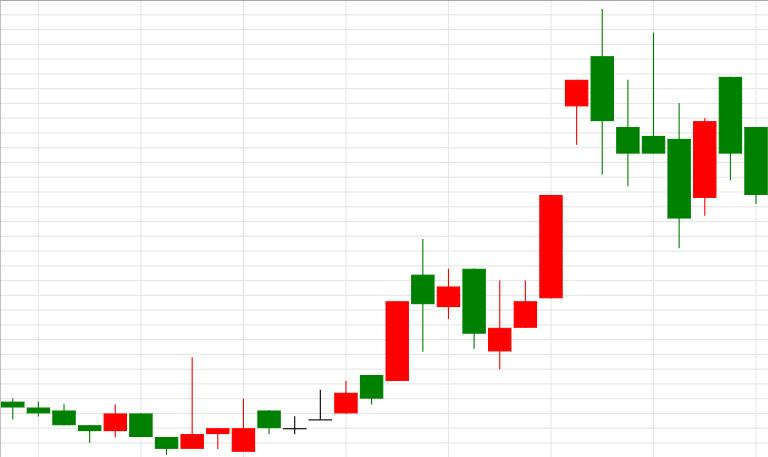bearish_engulfing_fall: (488, 9, 614, 369)
